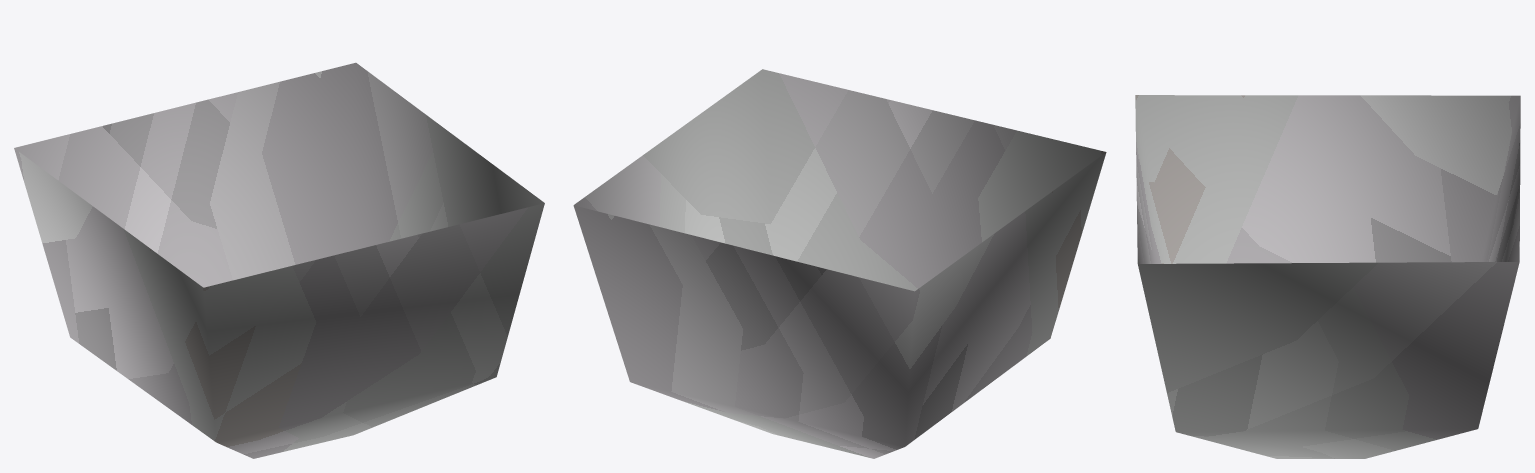
The model's file is eqp_medic_powder_s01_l3.fbx.
3 renders of one model, left to right at view 1: azimuth 30°, elevation 25°; view 2: azimuth 150°, elevation 25°; view 3: azimuth 270°, elevation 25°, orthographic.
Visible parts, largest first — view 1: mesh_node; view 2: mesh_node; view 3: mesh_node.
Boxes of the visible parts, x1,y1,x2,y2 form: mesh_node: (14,62,544,458); mesh_node: (573,69,1106,458); mesh_node: (1135,95,1520,458).
Size of the model in its own units: 0.1734 by 0.2013 by 0.167.
